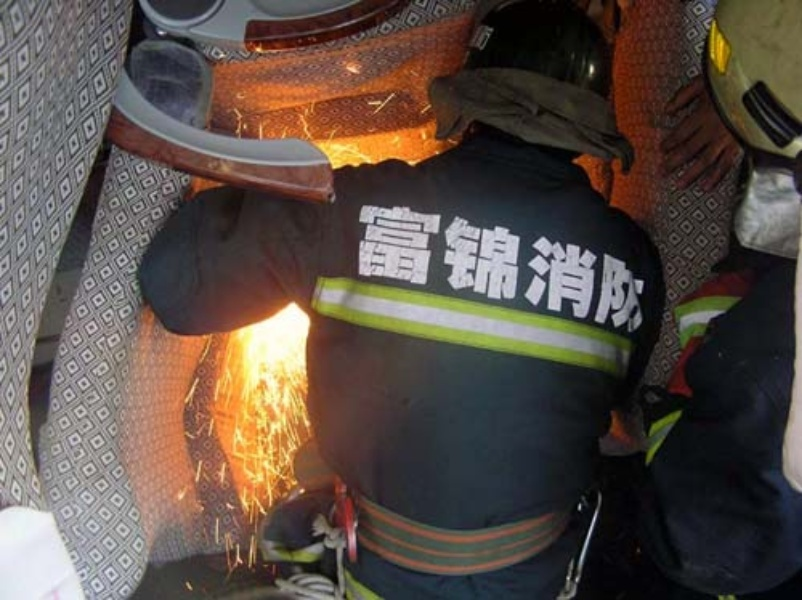text: (641, 191, 657, 336), (369, 191, 384, 336), (385, 191, 400, 336), (401, 191, 416, 336), (417, 191, 432, 336), (433, 191, 448, 336), (449, 191, 464, 336), (465, 191, 480, 336), (481, 191, 496, 336), (497, 191, 512, 336), (513, 191, 528, 336), (529, 191, 544, 336), (545, 191, 560, 336), (561, 191, 576, 336), (577, 191, 592, 336), (593, 191, 608, 336), (609, 191, 624, 336), (625, 191, 640, 336), (361, 191, 368, 336)
